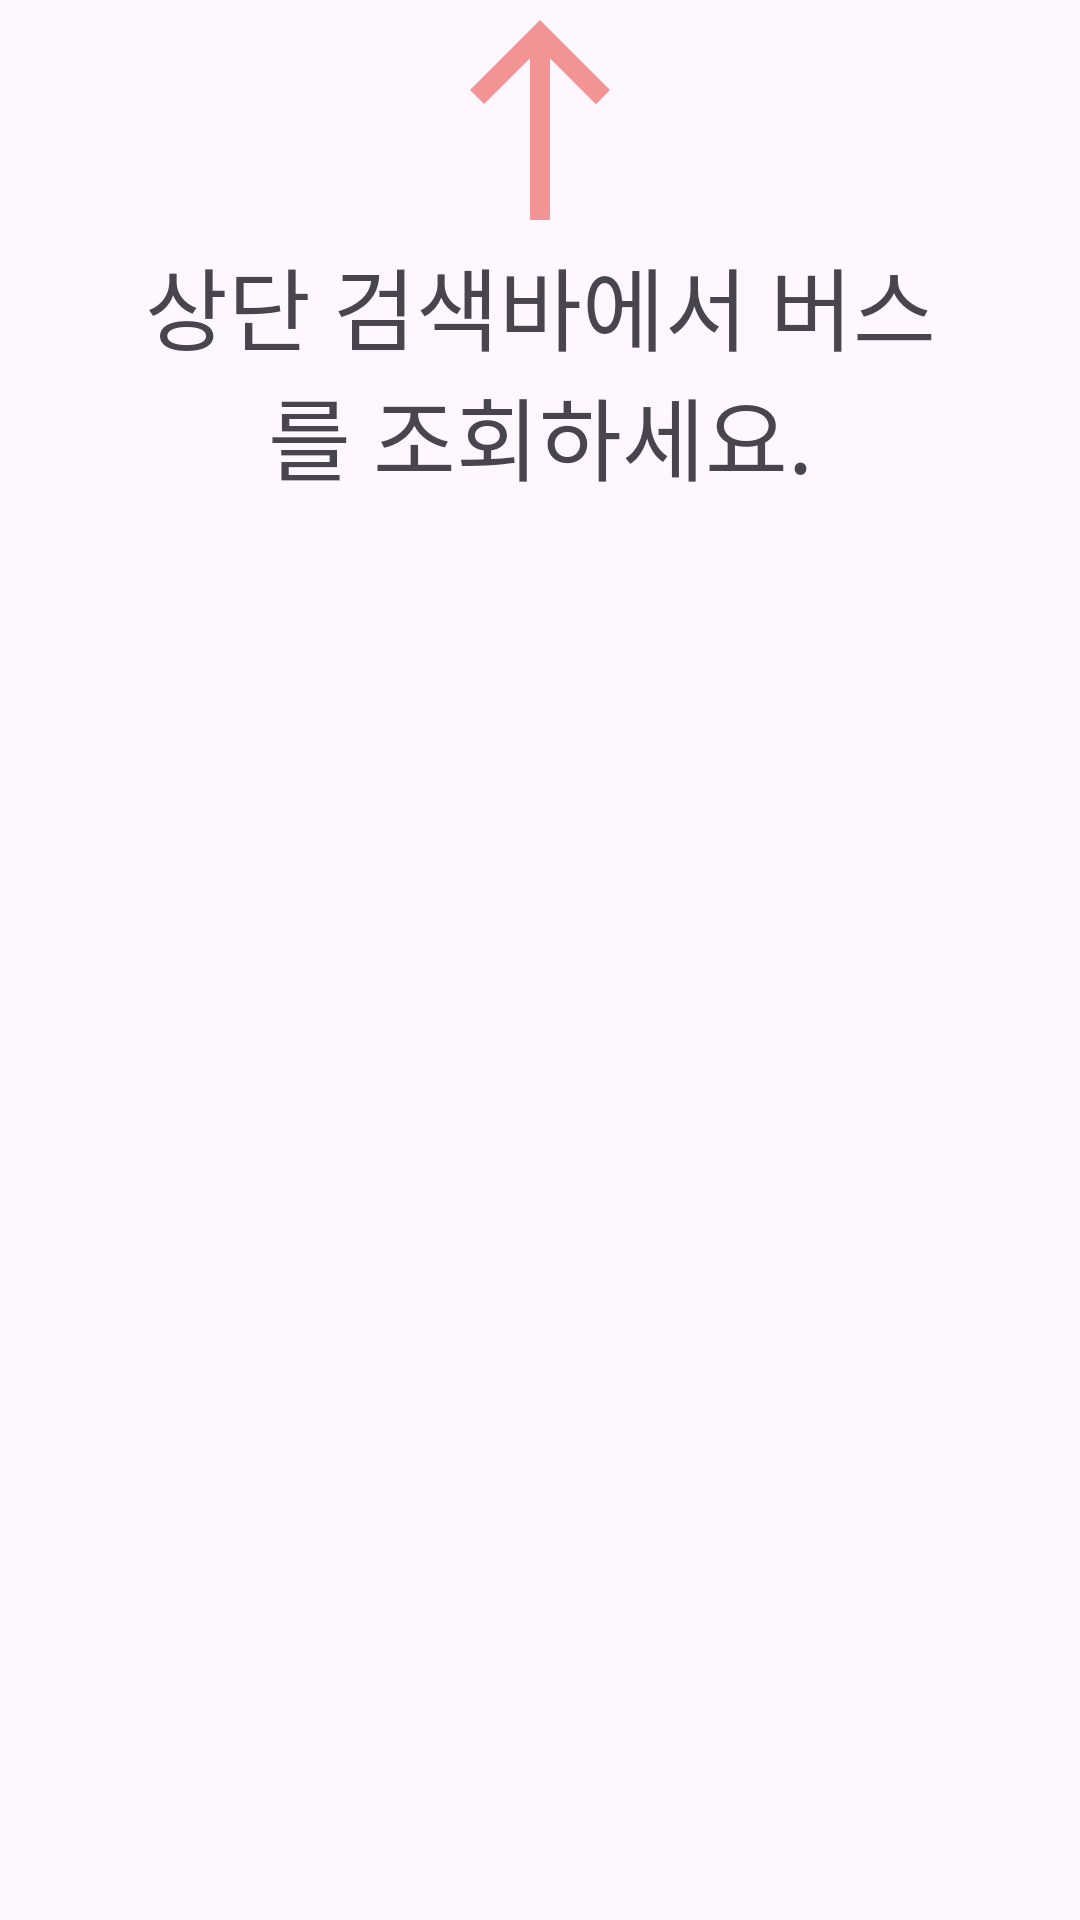

Icons on this 1080w x 1920h Android screen, each with the point to tap as [x,y]:
north: [540,120]
